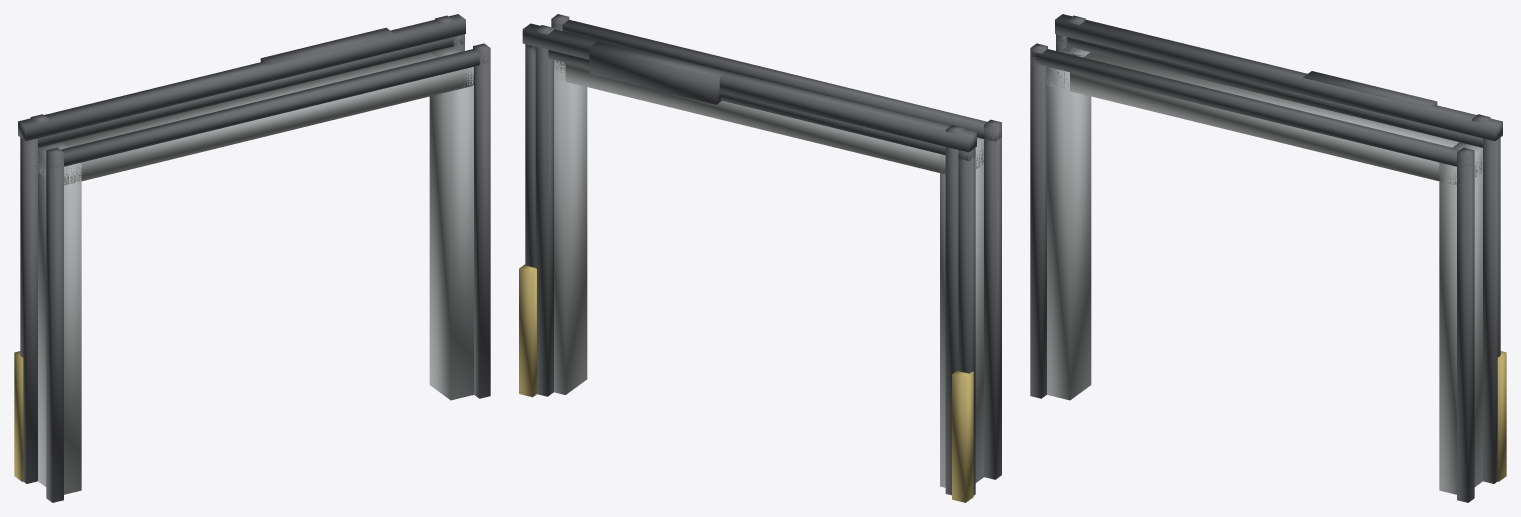
Rendered from bay_opening_loading_bay_w300_h240_d30.glb.
3 renders of one model, left to right at view 1: azimuth 30°, elevation 25°; view 2: azimuth 150°, elevation 25°; view 3: azimuth 330°, elevation 25°, orthographic.
Parts seen in each view (by area): view 1: world; view 2: world; view 3: world.
Boxes of the visible parts, box(x1,y1,x2,y2) form: world: box(14, 14, 490, 502); world: box(519, 14, 1001, 502); world: box(1030, 14, 1506, 502).
Size of the model in its own units: 3.58 by 2.79 by 0.522.
